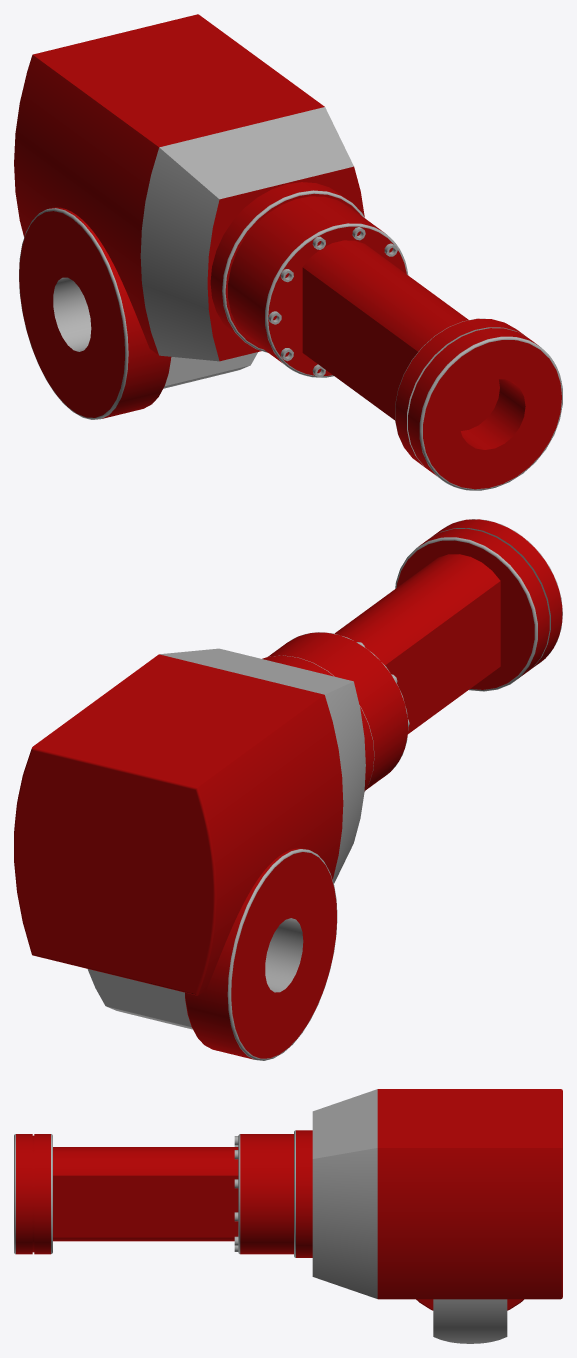
3 renders of one model, top to bottom at view 1: azimuth 30°, elevation 25°; view 2: azimuth 150°, elevation 25°; view 3: azimuth 270°, elevation 25°, orthographic. The views are drawn at different scales.
Visible parts, largest first — view 1: Solid1; view 2: Solid1; view 3: Solid1.
Boxes of the visible parts, x1,y1,x2,y2 form: Solid1: [14, 14, 562, 490]; Solid1: [14, 519, 562, 1060]; Solid1: [14, 1089, 562, 1343].
Size of the model in its own units: 0.0939 by 0.1325 by 0.296.
